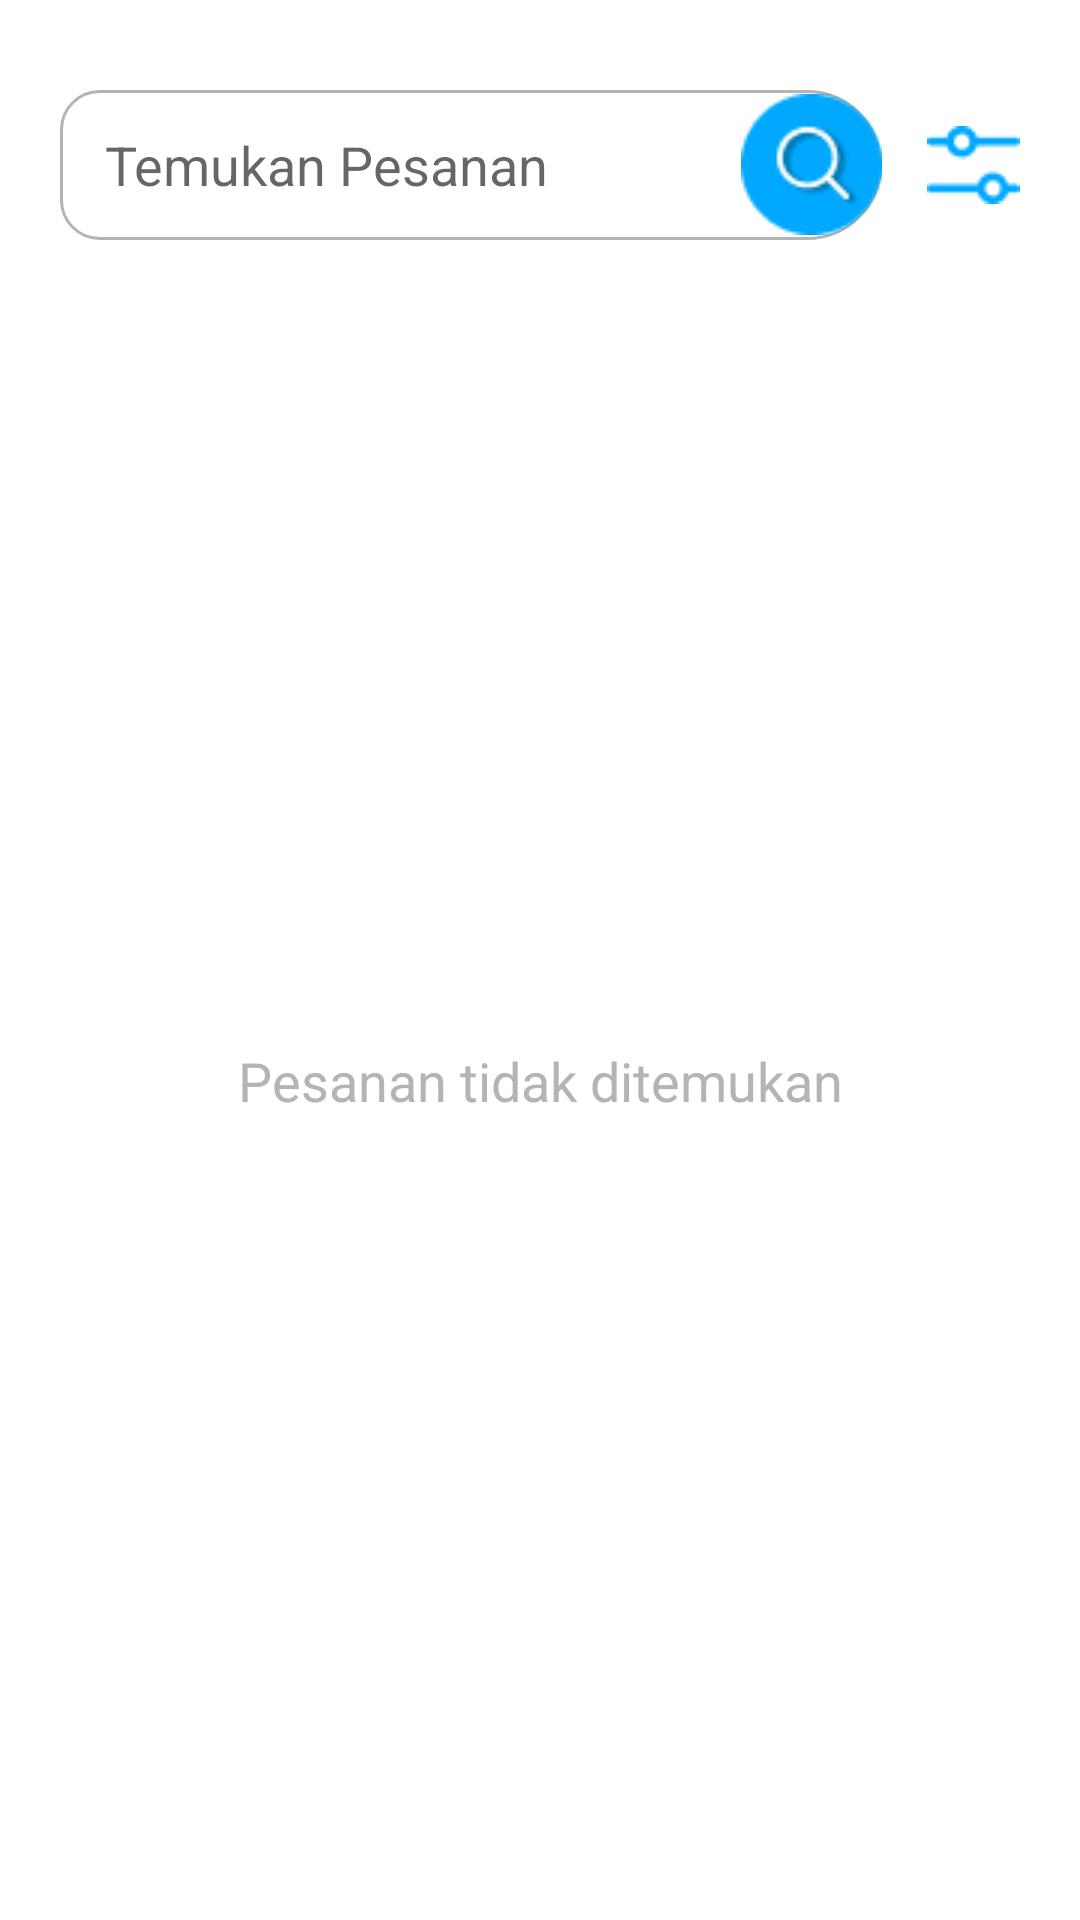

Icon click points for this 1080px×1920px phone screenshot, format (x,y):
filter: (973,165)
